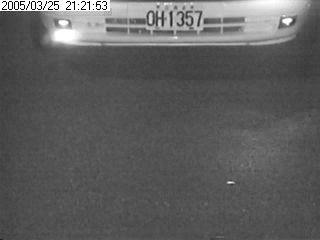plate: (145, 2, 205, 32)
